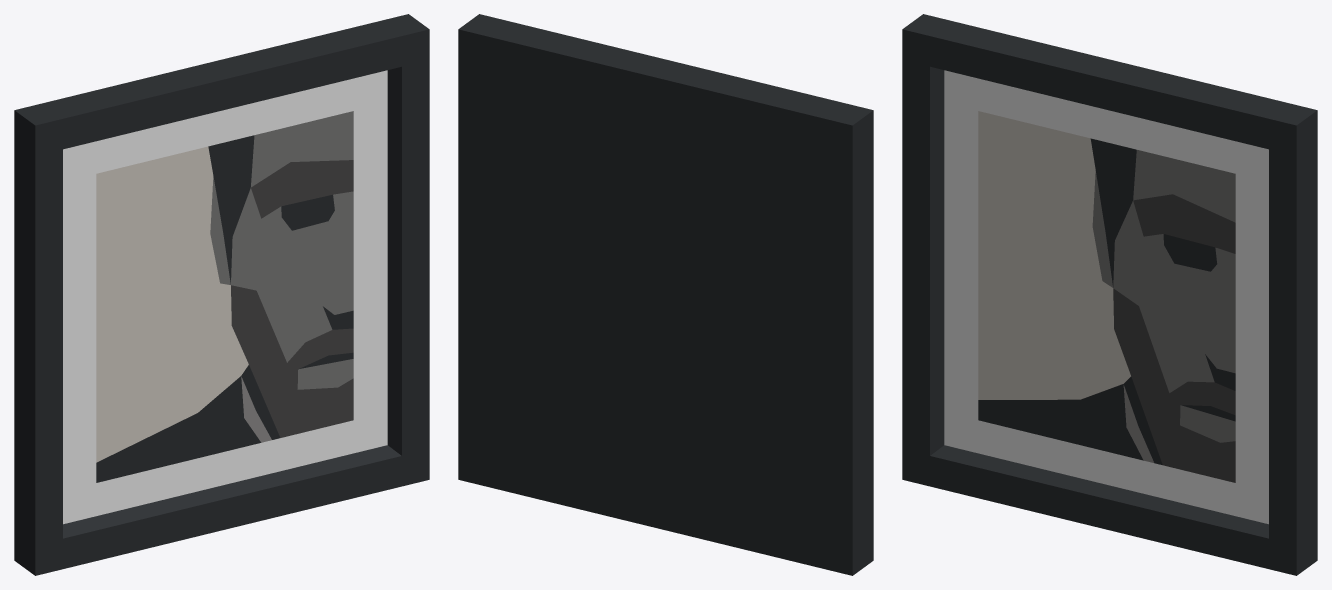
The model's file is SM_Prop_Art_04.fbx.
The picture shows the model from 3 angles, left to right: view 1: azimuth 30°, elevation 25°; view 2: azimuth 150°, elevation 25°; view 3: azimuth 330°, elevation 25°; orthographic projection.
Parts seen in each view (by area): view 1: SM_Prop_Art_04; view 2: SM_Prop_Art_04; view 3: SM_Prop_Art_04.
Part boxes in pixels (x1,y1,x2,y2): SM_Prop_Art_04: (14, 14, 429, 575); SM_Prop_Art_04: (458, 14, 873, 575); SM_Prop_Art_04: (902, 14, 1317, 575).
Size of the model in its own units: 53.76 by 58.68 by 4.96.
